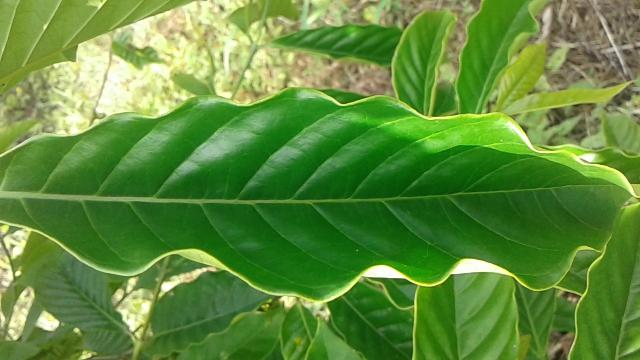healthy: (0, 82, 640, 308)
